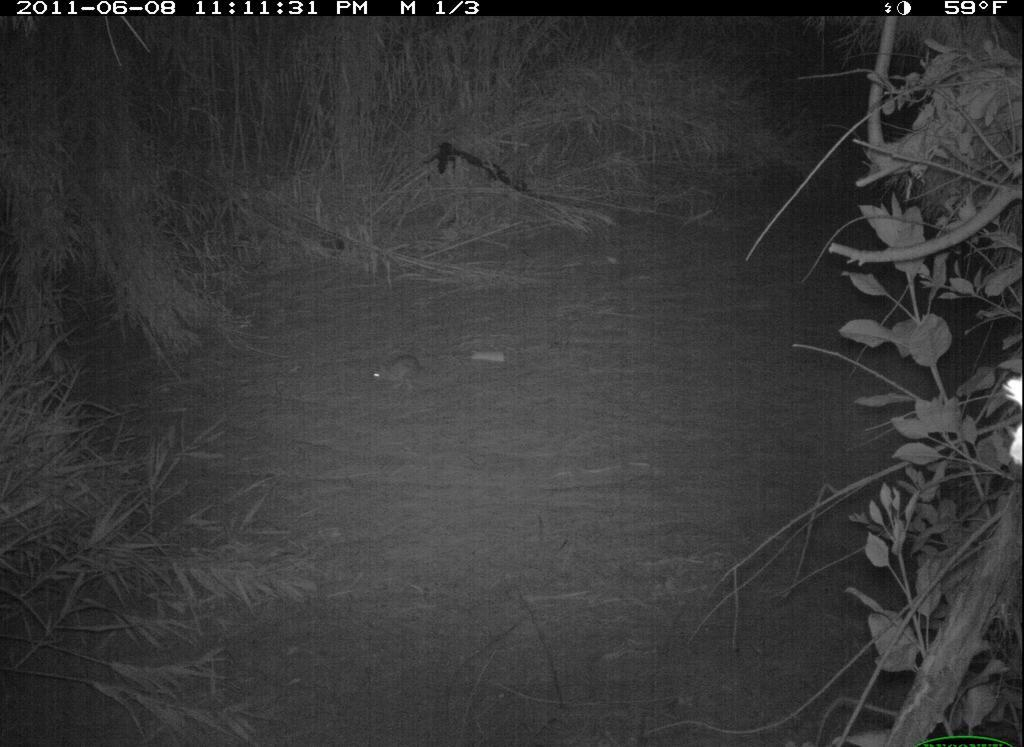rabbit: (353, 329, 437, 405)
